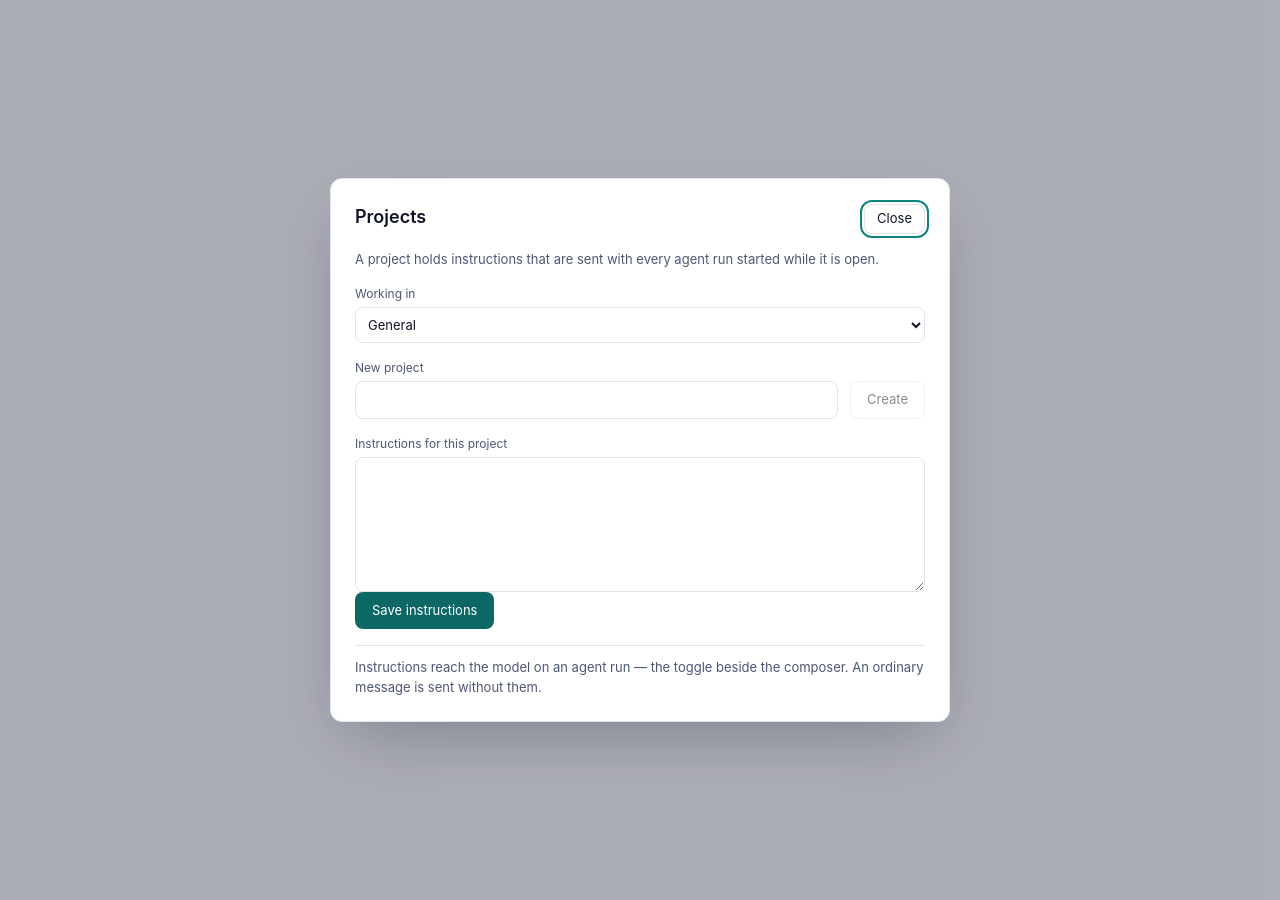
Scenario: the projects pane › reports a refused save instead of leaving the words looking stored
Click the text box labelled "Instructions for this project" at (640, 524), box [355,456,925,592]
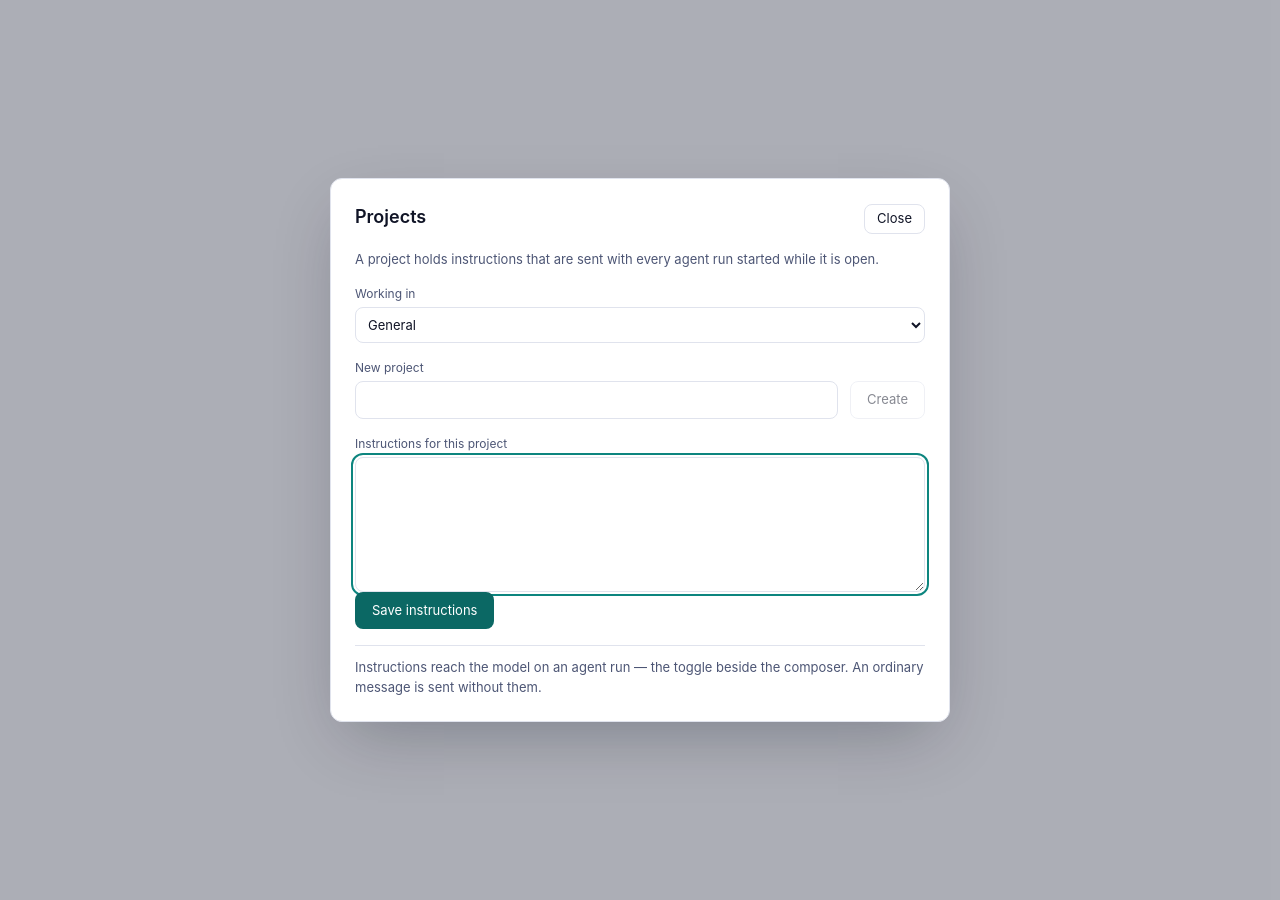
Type keys "always answer in French"
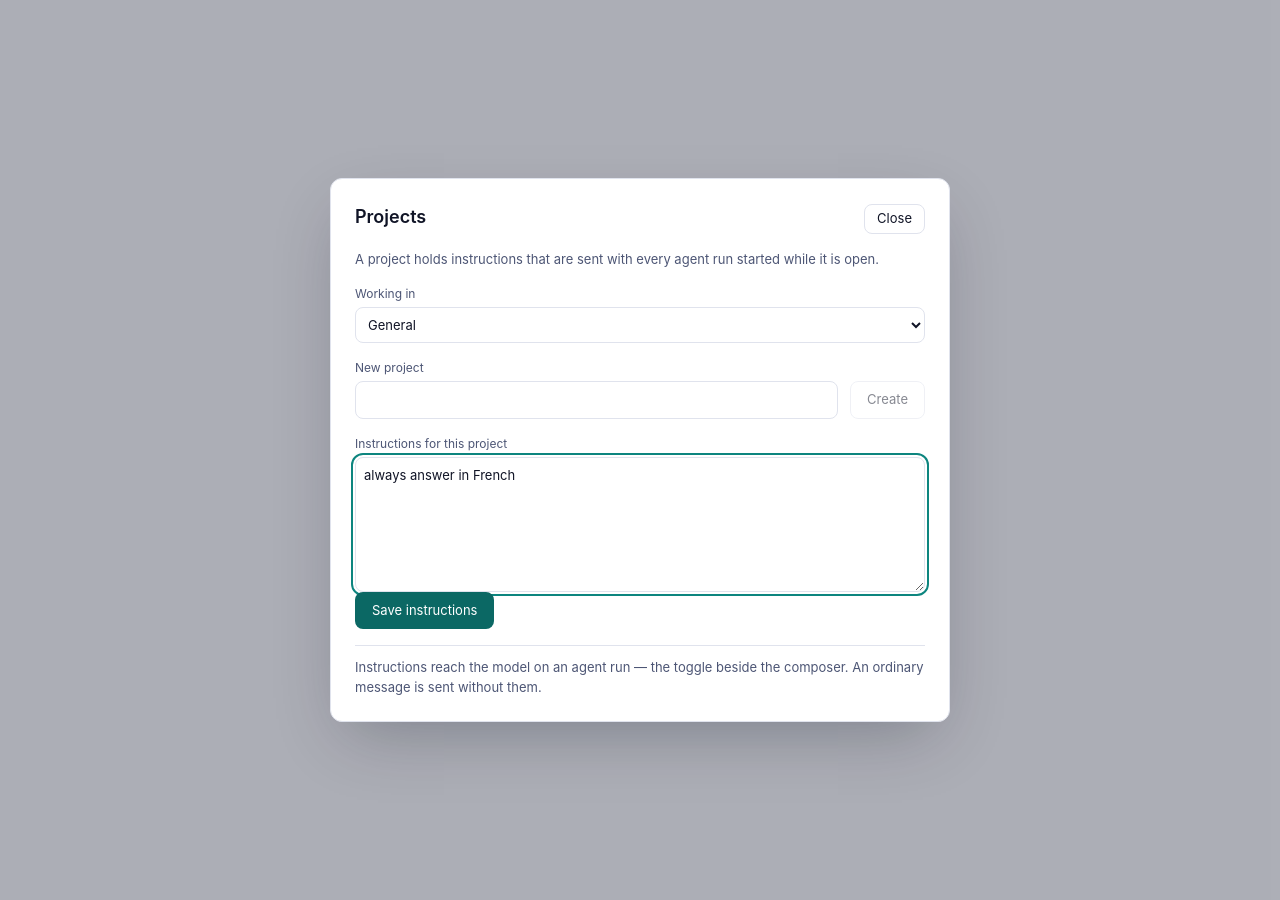
Click the button "Save instructions" at (425, 610), box [355,592,494,629]
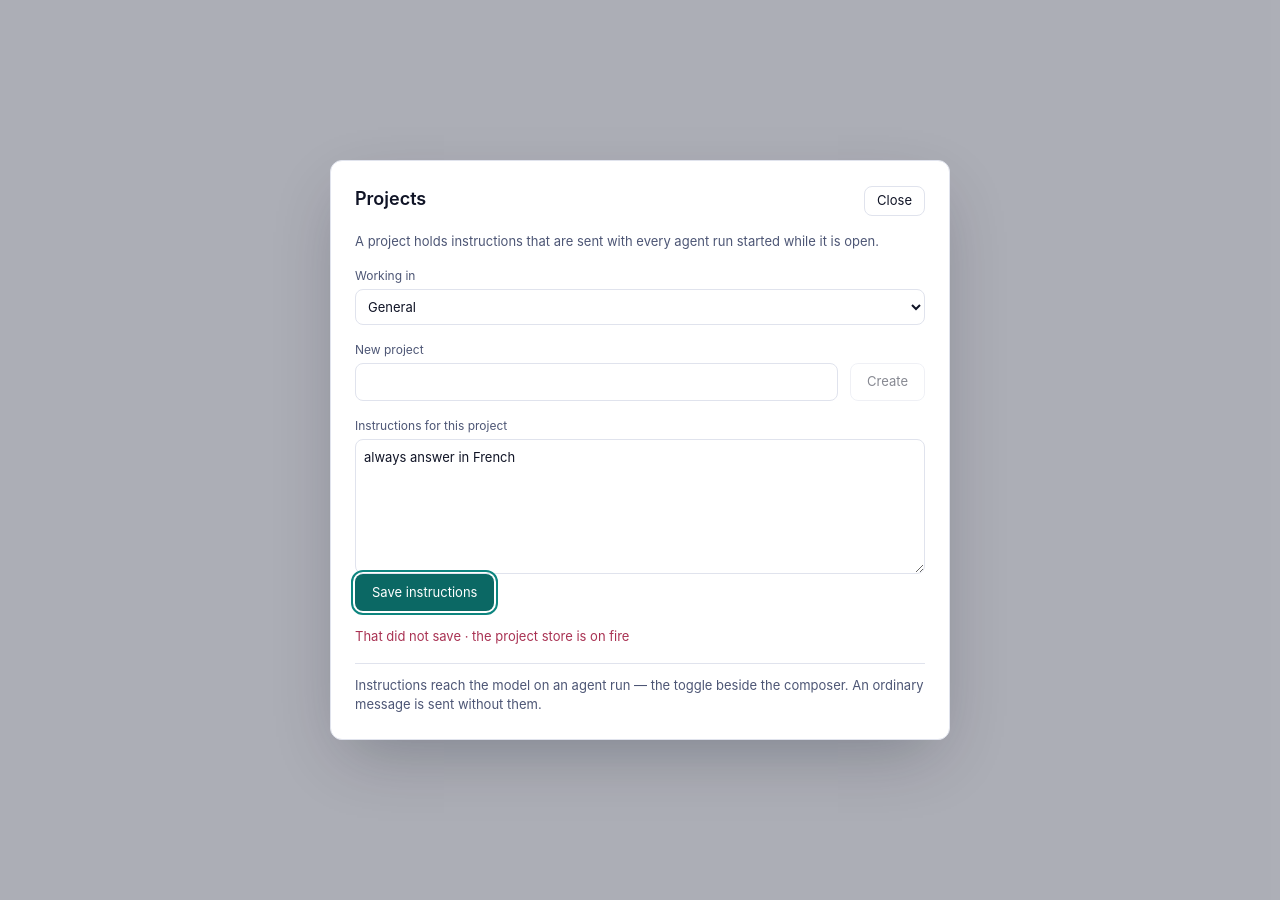
Result: the text "That did not save · the project store is on fire" is shown at [355,628,630,644]
